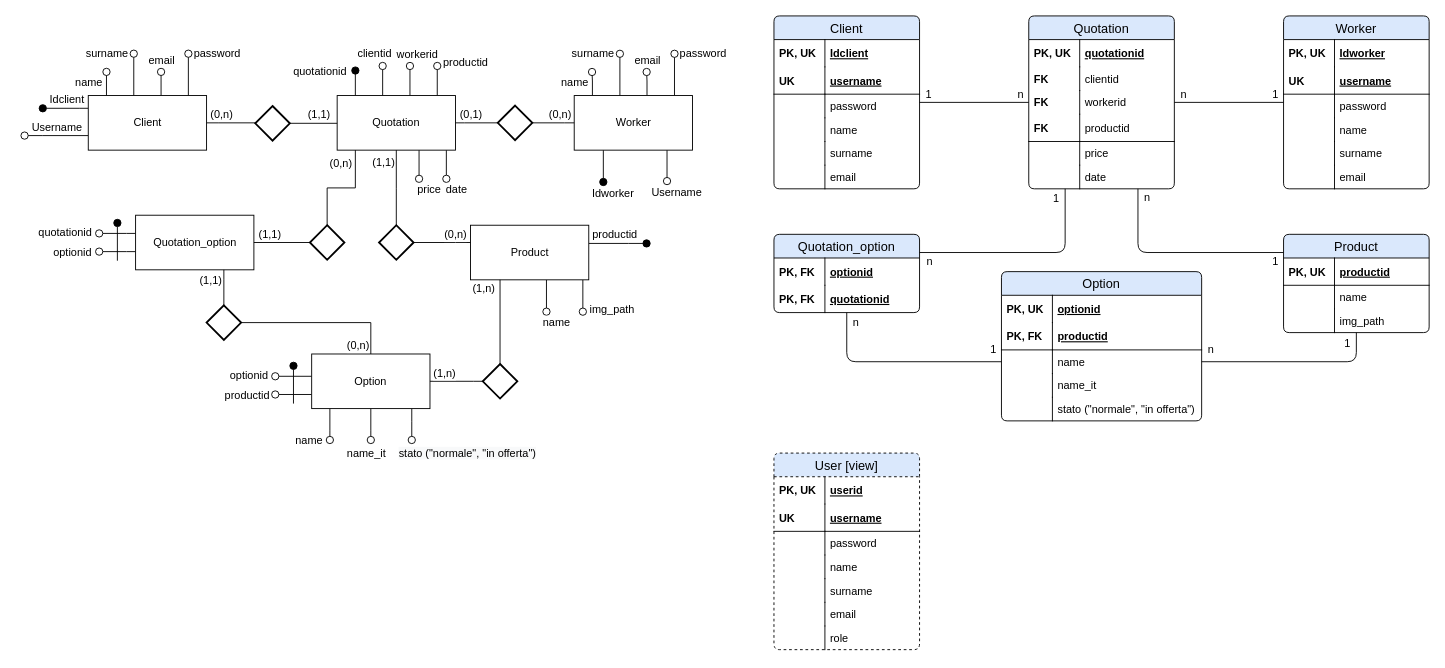
The diagram is 1445 pixels wide and 668 high, and some of its shapes have lost their labels. Here are the shapes that lost their labels. From the top down, the centre of each, then its label:
(272,123): Requires
(514,122): Manages
(326,242): Associated to
(396,242): Related to
(223,322): Refers to
(499,381): Has options
